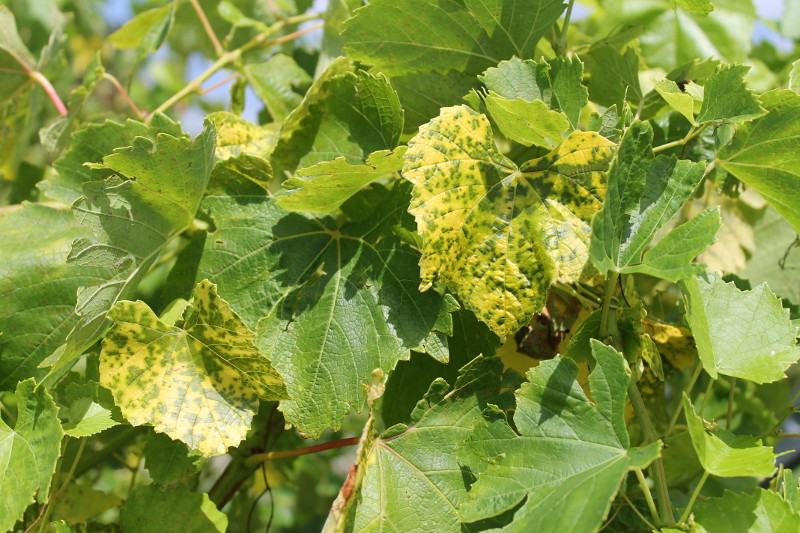downy: (410, 129, 595, 314), (111, 297, 262, 448), (218, 112, 280, 174)
